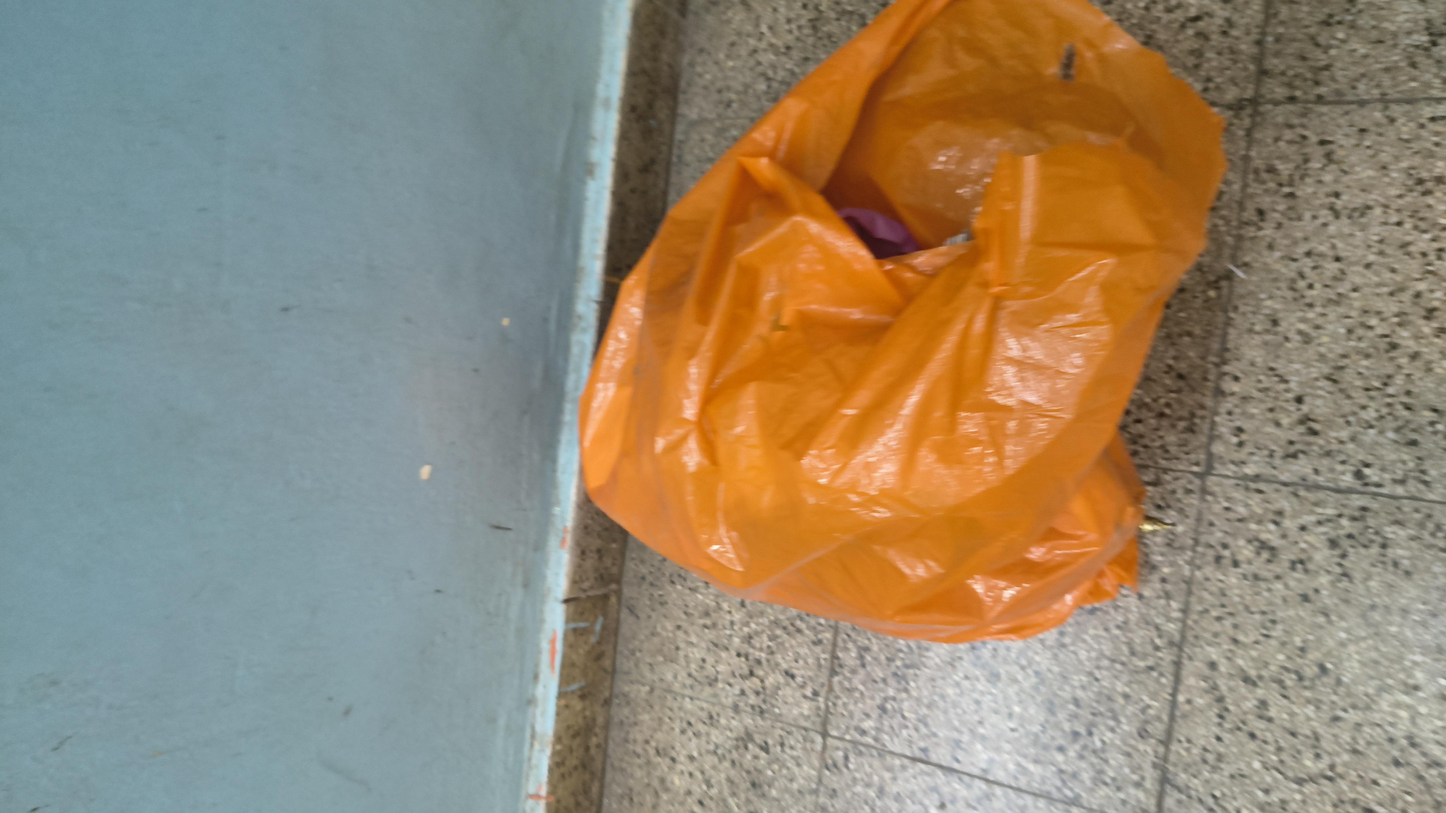Garbage: (257, 304, 1446, 715)
